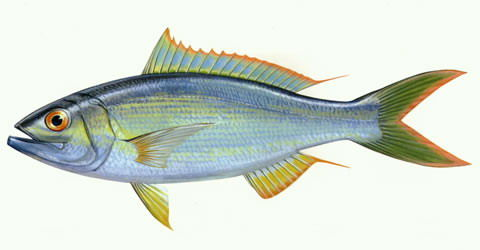fish: (7, 27, 471, 227)
